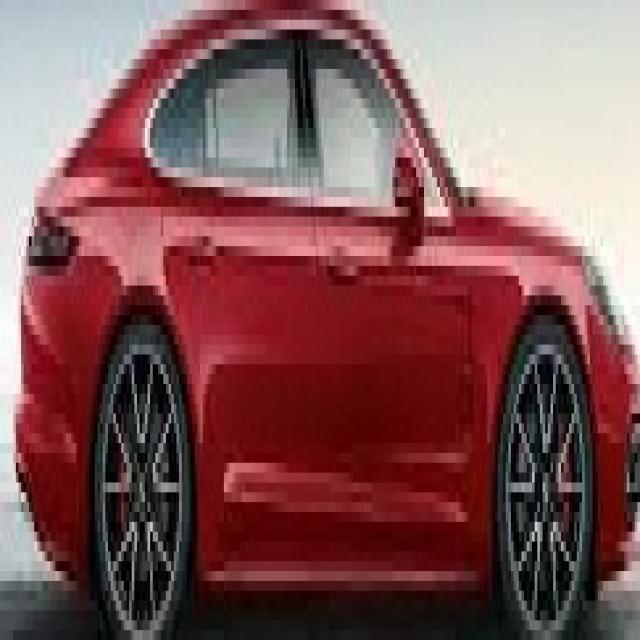maroon: (15, 14, 640, 618)
